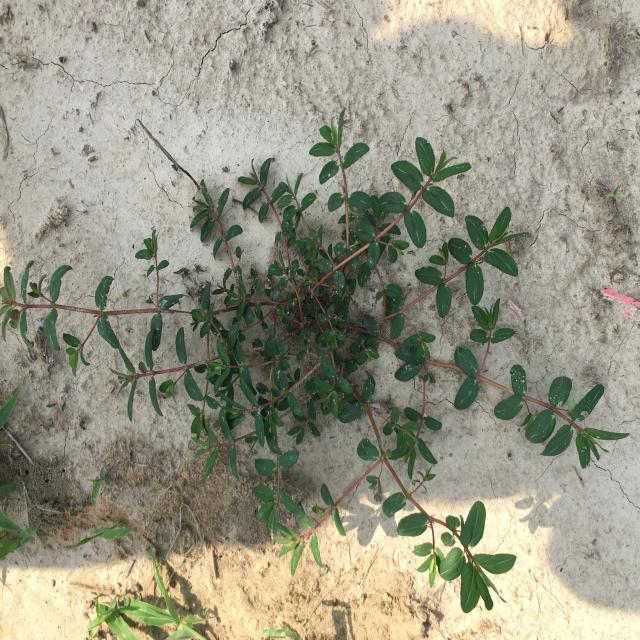SpottedSpurge: (1, 107, 630, 614)
